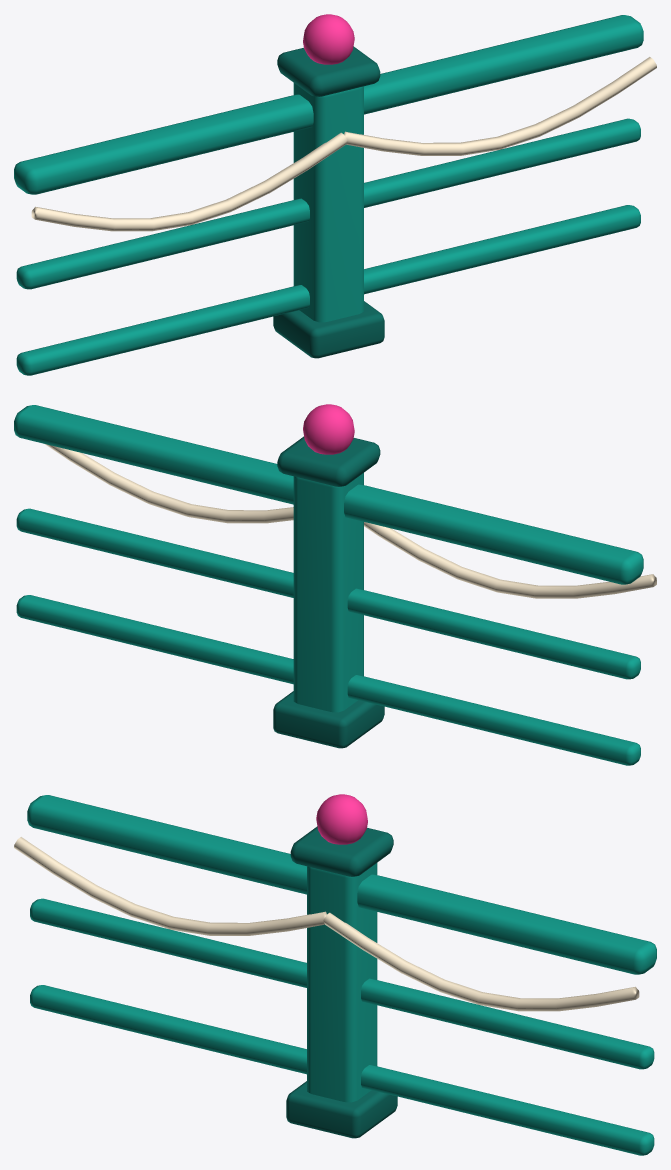
The model's file is rail.glb.
3 renders of one model, top to bottom at view 1: azimuth 30°, elevation 25°; view 2: azimuth 150°, elevation 25°; view 3: azimuth 330°, elevation 25°, orthographic.
Visible parts, largest first — view 1: Rail; view 2: Rail; view 3: Rail.
Part boxes in pixels (x1,y1,x2,y2): Rail: [14, 14, 656, 375]; Rail: [14, 404, 656, 765]; Rail: [14, 794, 656, 1155].
Bounding box in the file's own units: 3.02 × 1.49 × 0.36.
